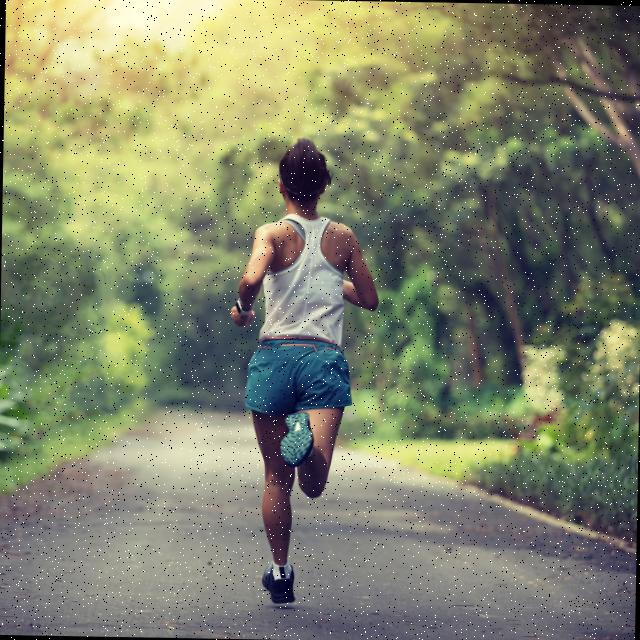Person: (224, 139, 380, 604)
